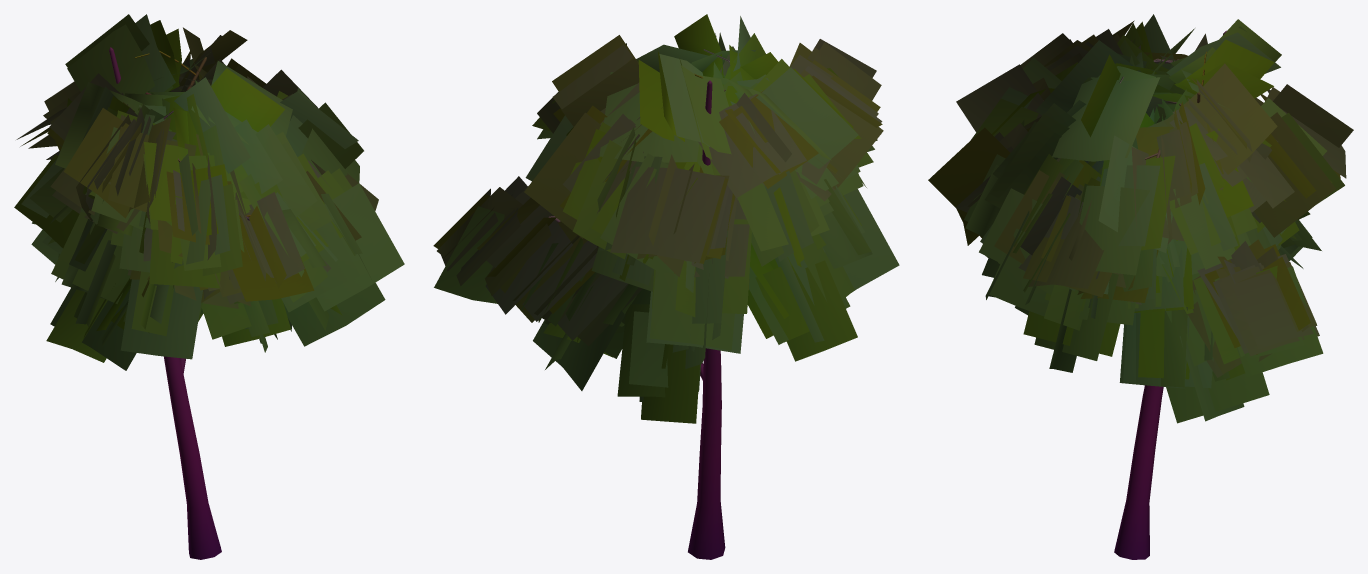
File: veg_birch_b.glb
3 renders of one model, left to right at view 1: azimuth 30°, elevation 25°; view 2: azimuth 150°, elevation 25°; view 3: azimuth 270°, elevation 25°, orthographic. The views are drawn at different scales.
Parts seen in each view (by area): view 1: veg_birch_b_LOD0; view 2: veg_birch_b_LOD0; view 3: veg_birch_b_LOD0.
Boxes of the visible parts, x1,y1,x2,y2 form: veg_birch_b_LOD0: [14, 14, 404, 559]; veg_birch_b_LOD0: [433, 14, 899, 559]; veg_birch_b_LOD0: [928, 14, 1353, 559].
Size of what is drawn, in the model's own units: 1.92 by 2.73 by 2.01.
